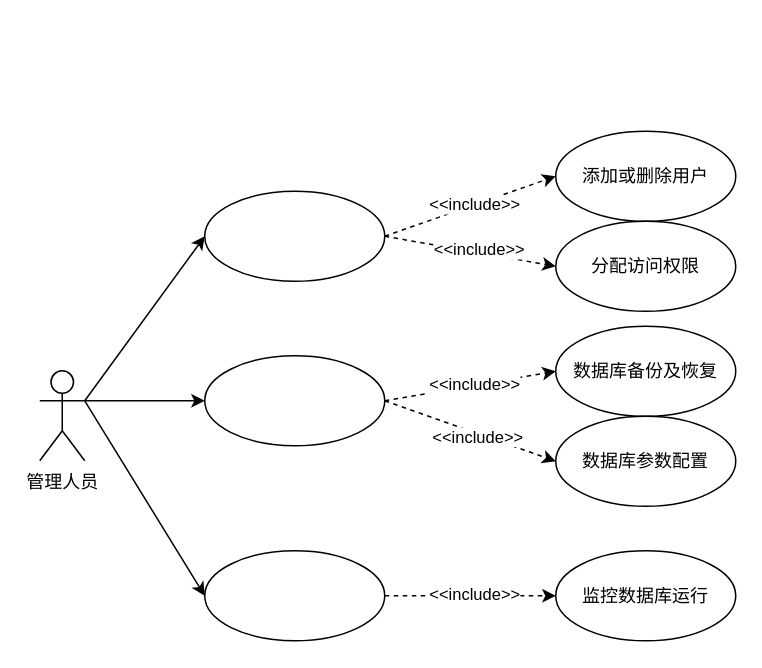
This 762x668 diagram has some shape labels left out. The centre of each missing label's shape, as x and y in pixels:
"用户管理" belongs at point (294, 235).
"监控" belongs at point (294, 595).
"系统维护" belongs at point (294, 400).
